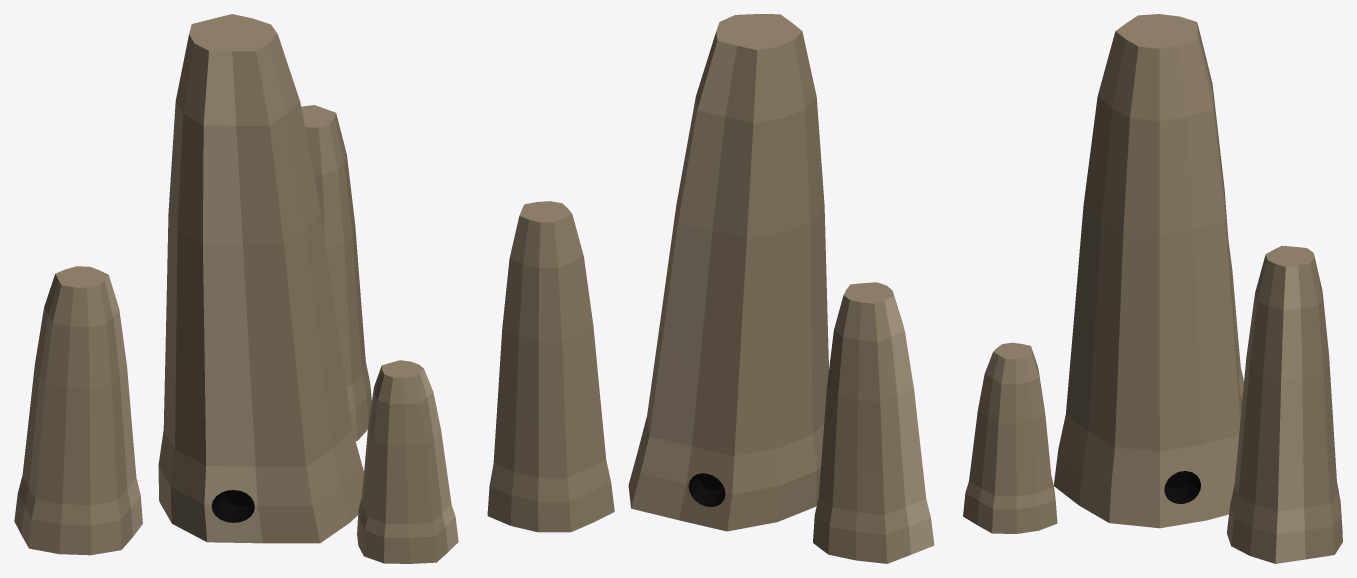
File: SM_SpireColony_2.fbx
3 views of the same model, side by side, from view 1: azimuth 30°, elevation 25°; view 2: azimuth 150°, elevation 25°; view 3: azimuth 270°, elevation 25° (orthographic). The views are drawn at different scales.
Parts seen in each view (by area): view 1: SM_SpireColony_2; view 2: SM_SpireColony_2; view 3: SM_SpireColony_2.
Boxes of the visible parts, <box> form: SM_SpireColony_2: <box>14,14,458,563</box>; SM_SpireColony_2: <box>487,14,934,563</box>; SM_SpireColony_2: <box>963,14,1342,563</box>.
Bounding box in the file's own units: 3.49 × 3.13 × 4.
